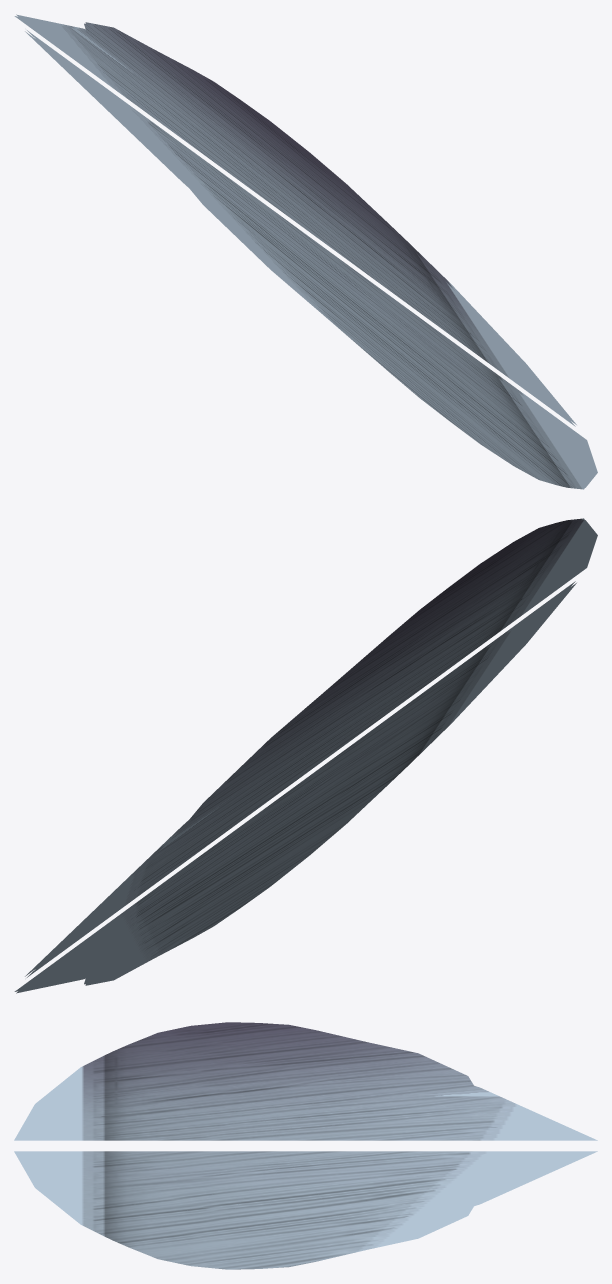
Rendered from arrow_feather_beetle_pair.FBX.
The picture shows the model from 3 angles, top to bottom: view 1: azimuth 30°, elevation 25°; view 2: azimuth 150°, elevation 25°; view 3: azimuth 270°, elevation 25°; orthographic projection. The views are drawn at different scales.
Visible parts, largest first — view 1: arrow_feathers001; view 2: arrow_feathers001; view 3: arrow_feathers001.
Part boxes in pixels (x1,y1,x2,y2): arrow_feathers001: (14,14,597,489); arrow_feathers001: (14,518,597,993); arrow_feathers001: (14,1022,597,1269).
Bounding box in the file's own units: 3.71 × 6.23 × 16.96.
